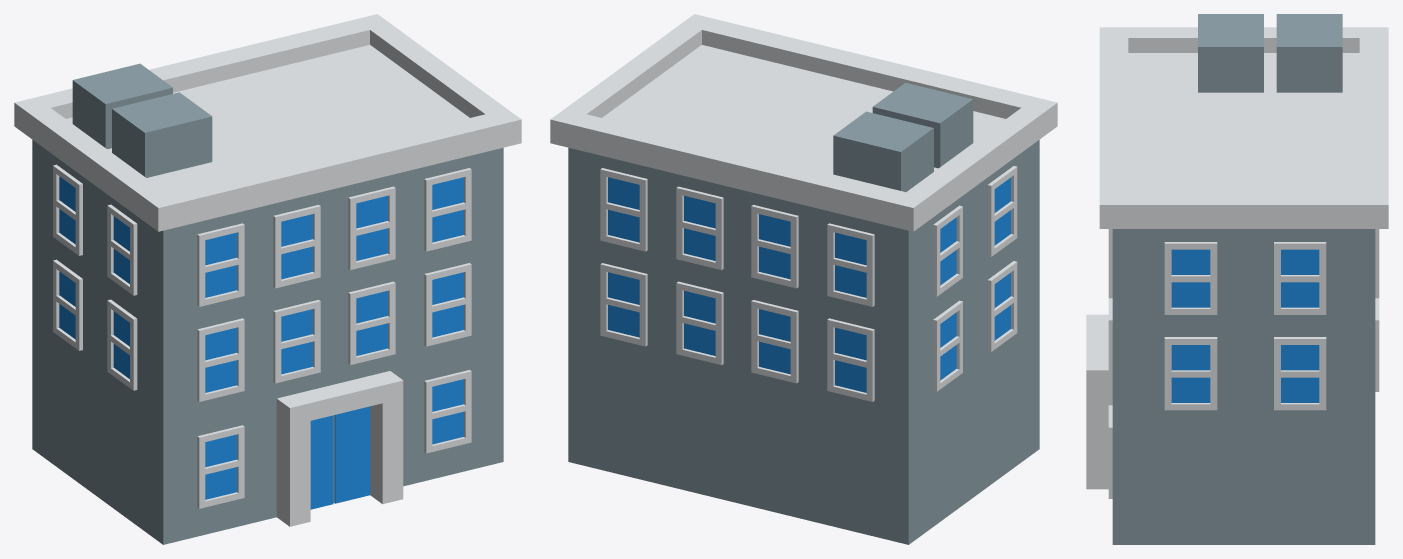
Rendered from office_building.gltf.
3 views of the same model, side by side, from view 1: azimuth 30°, elevation 25°; view 2: azimuth 150°, elevation 25°; view 3: azimuth 270°, elevation 25° (orthographic).
Parts seen in each view (by area): view 1: Cube.483; view 2: Cube.483; view 3: Cube.483.
Boxes of the visible parts, x1=… form: Cube.483: x1=14, y1=14, x2=521, y2=544; Cube.483: x1=550, y1=14, x2=1057, y2=544; Cube.483: x1=1086, y1=14, x2=1388, y2=544.
Bounding box in the file's own units: 2.09 × 2.07 × 1.5.
Materials: 1 (1 with a texture image).
